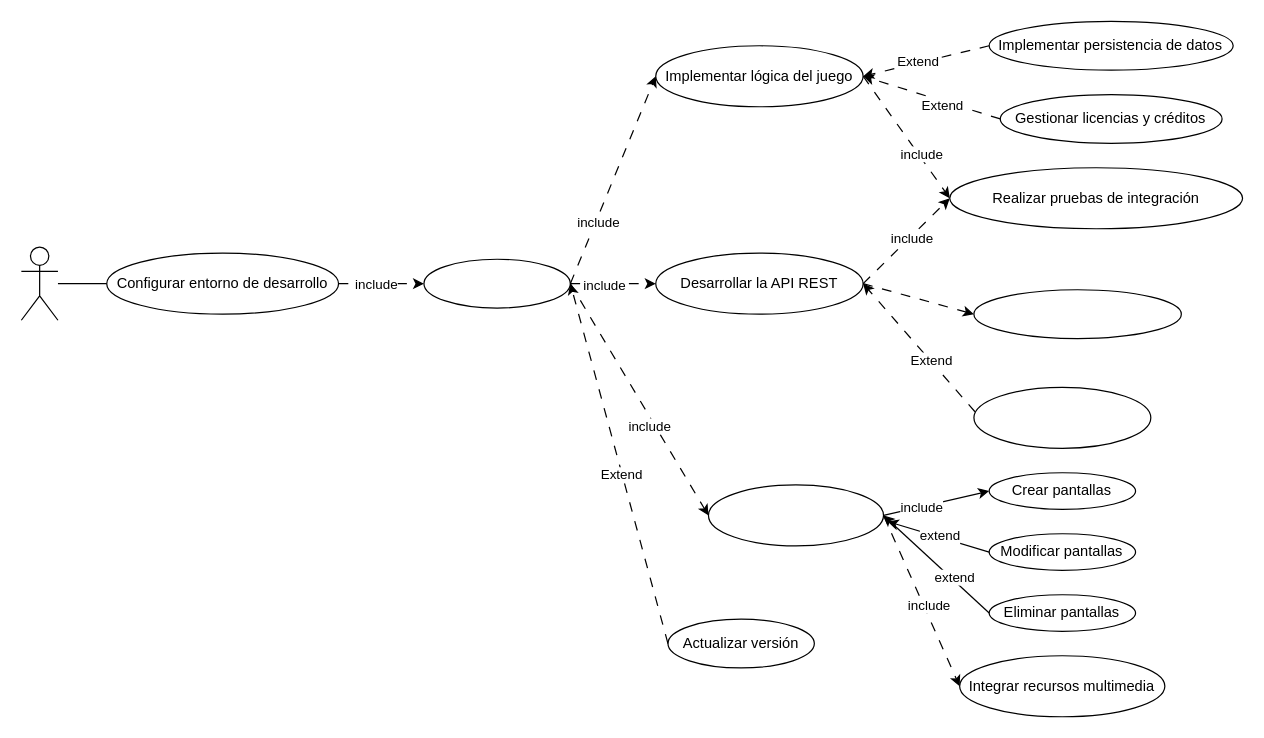
Some shapes in this 1264 by 738 pixel diagram are drawn without their labels. Here are the shapes that lost their labels. From the top down, the box of each, then its label:
(20, 246, 58, 320): Actor
(423, 258, 570, 308): Desplegar sistema
(973, 289, 1181, 339): Conectar con base de datos
(973, 386, 1151, 448): Configurar WebSocket
(707, 484, 884, 546): Diseñar la interfaz gráfica
